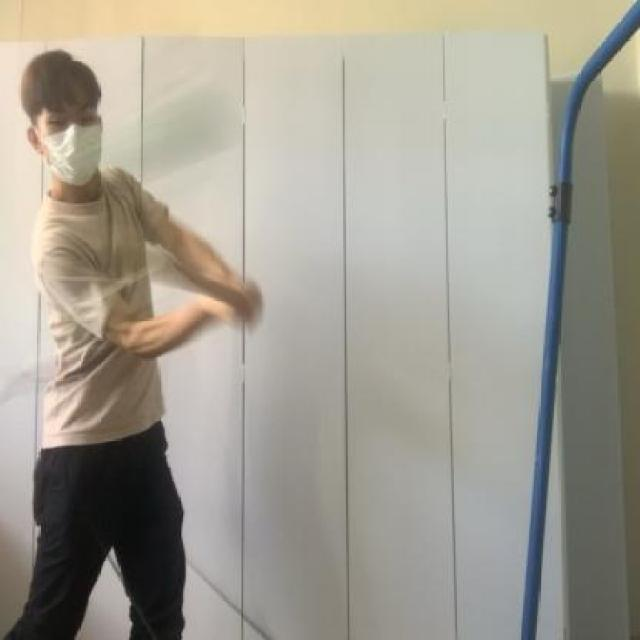baseball: (71, 74, 254, 200)
